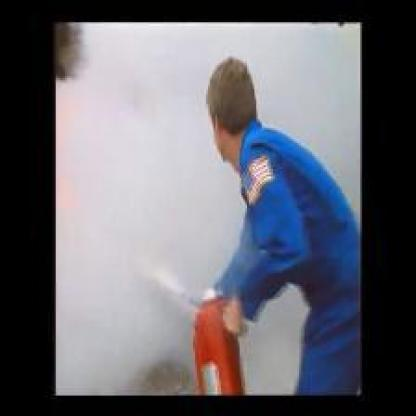other: (176, 278, 256, 392)
